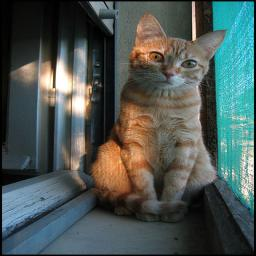catnose: (161, 70, 176, 80)
